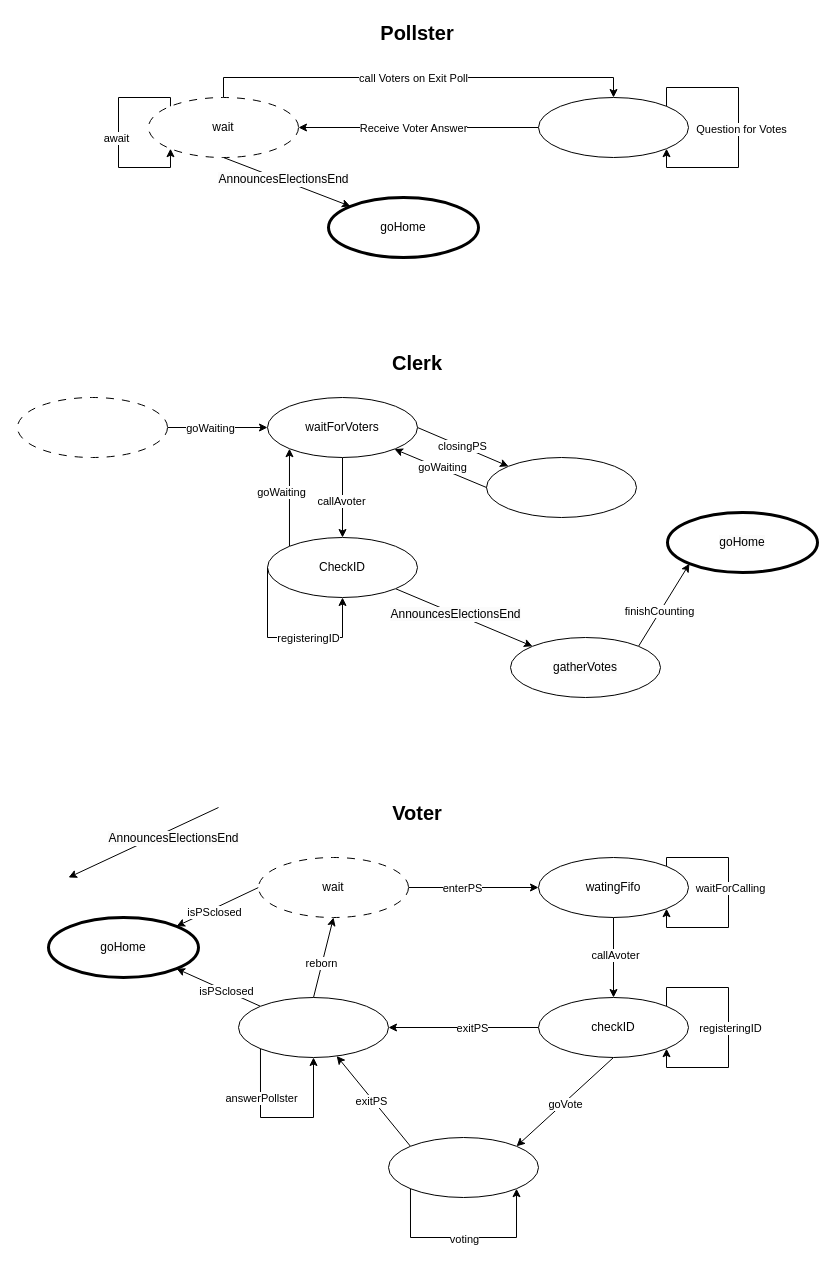
Some shapes in this 836 by 1263 pixel diagram are drawn without their labels. Each missing label, with the box of its shape:
closePS: (486, 456, 636, 518)
e-voting booth: (388, 1136, 538, 1198)
exit Poll: (238, 996, 388, 1058)
inActivity: (538, 96, 688, 158)
openPS: (16, 396, 168, 458)
